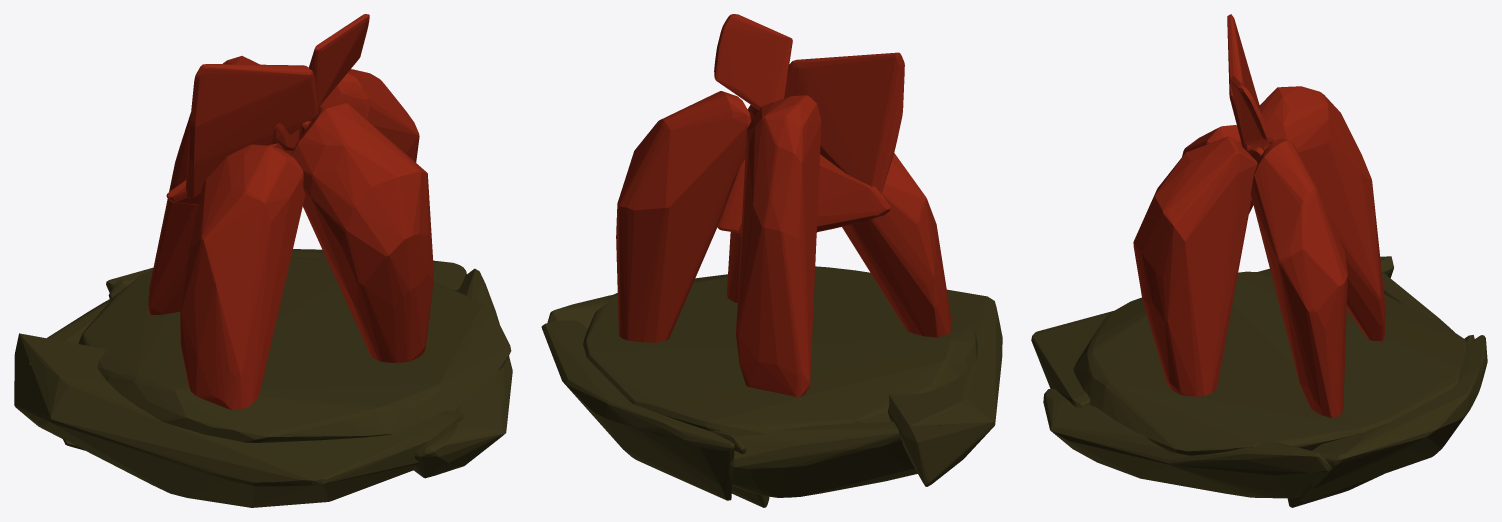
3 views of the same model, side by side, from view 1: azimuth 30°, elevation 25°; view 2: azimuth 150°, elevation 25°; view 3: azimuth 270°, elevation 25° (orthographic). The views are drawn at different scales.
Parts seen in each view (by area): view 1: Untitled_8_MatteHull_geo; view 2: Untitled_8_MatteHull_geo; view 3: Untitled_8_MatteHull_geo.
Boxes of the visible parts, x1,y1,x2,y2 form: Untitled_8_MatteHull_geo: (14,14,512,507); Untitled_8_MatteHull_geo: (541,14,1002,507); Untitled_8_MatteHull_geo: (1031,14,1487,507).
Bounding box in the file's own units: 1.4 × 1.25 × 1.32.
